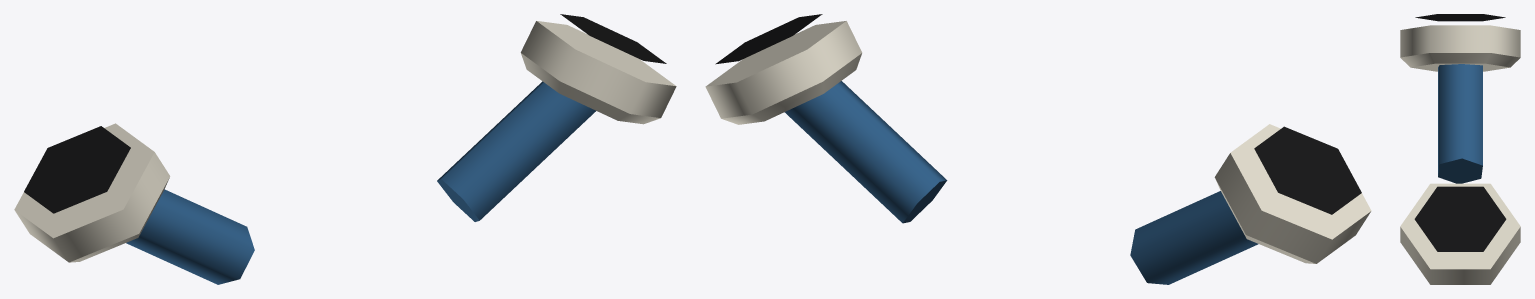
Rendered from rm2_thrusters_fore.obj.
3 renders of one model, left to right at view 1: azimuth 30°, elevation 25°; view 2: azimuth 150°, elevation 25°; view 3: azimuth 270°, elevation 25°, orthographic. The views are drawn at different scales.
Visible parts, largest first — view 1: rm2_thrusters_fore; view 2: rm2_thrusters_fore; view 3: rm2_thrusters_fore.
Boxes of the visible parts, bbox=[...] form: rm2_thrusters_fore: bbox=[14, 14, 676, 284]; rm2_thrusters_fore: bbox=[705, 14, 1371, 284]; rm2_thrusters_fore: bbox=[1400, 14, 1520, 284].
Size of the model in its own units: 0.6629 by 0.1748 by 0.144.
